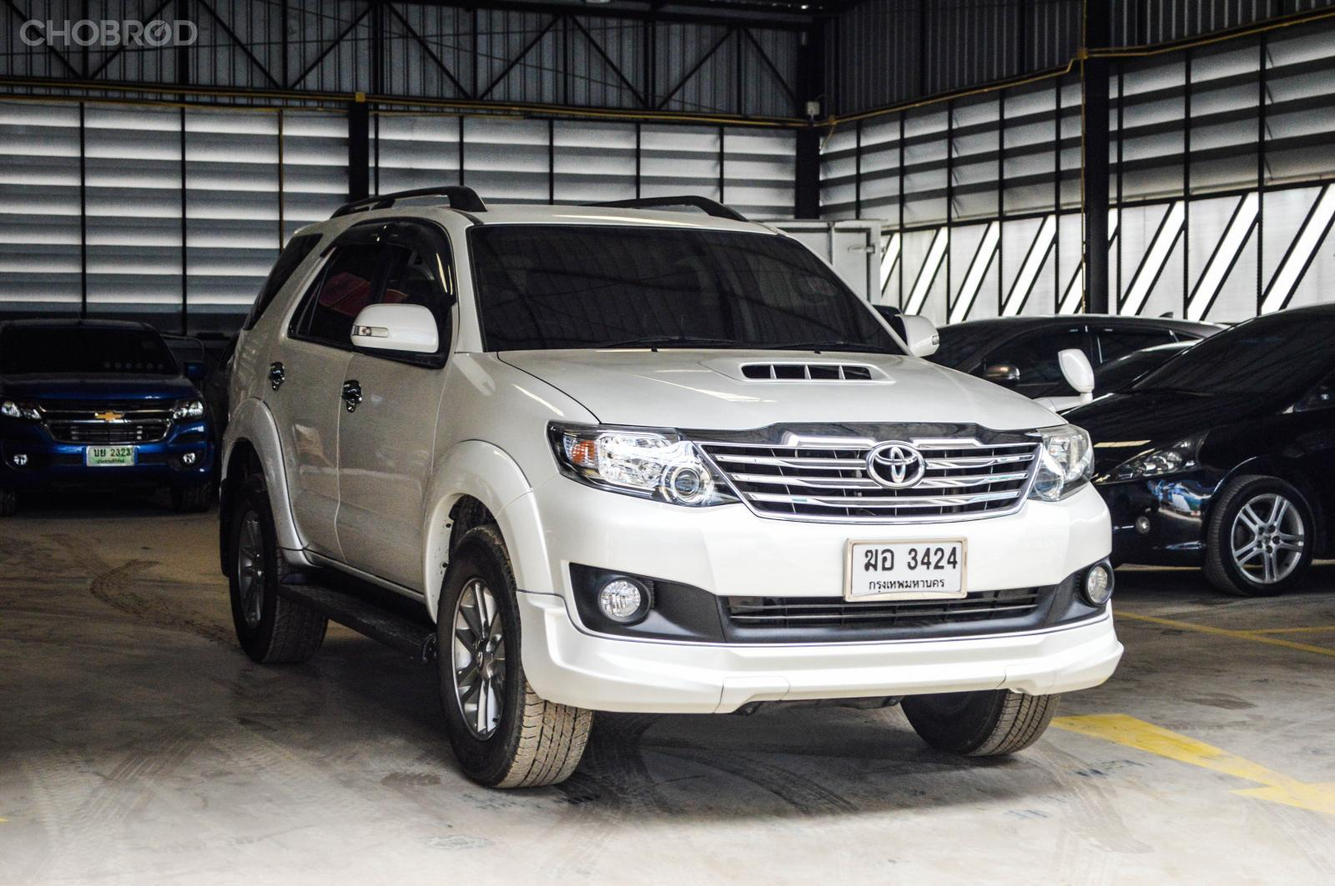license-plate: (842, 536, 973, 602)
